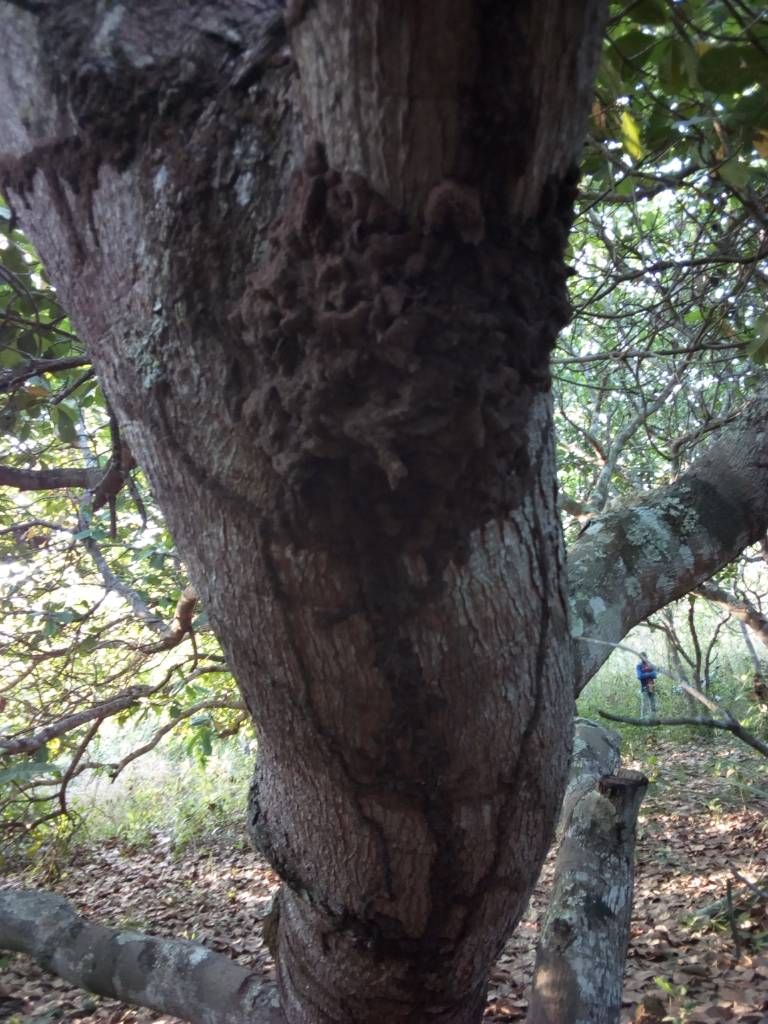Termites: (250, 171, 560, 561), (274, 589, 550, 947)
